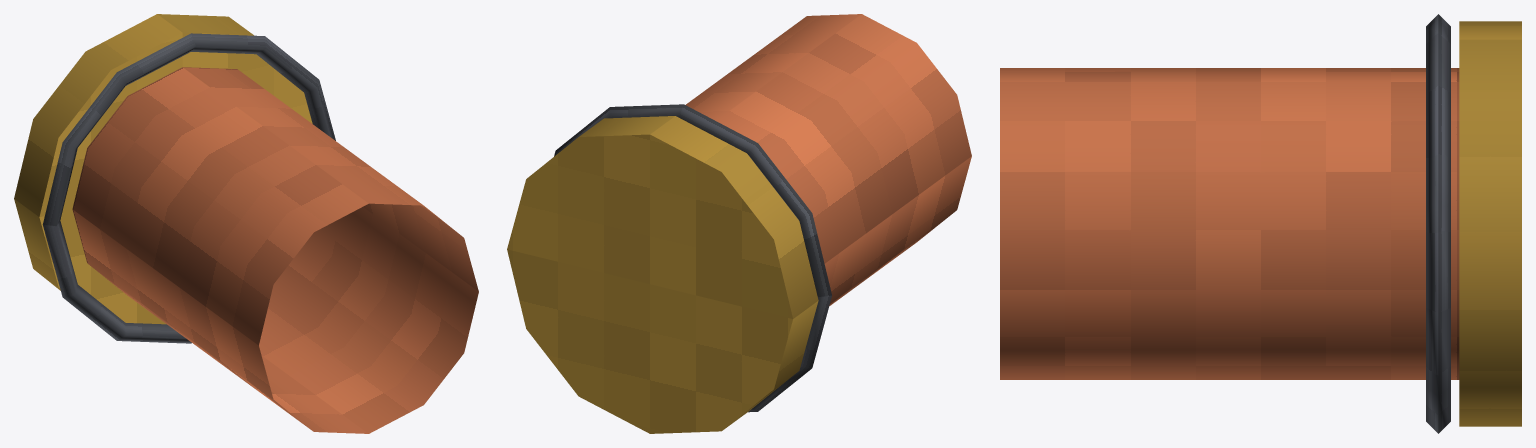
File: fluid_pipe_arm.obj
The picture shows the model from 3 angles, left to right: view 1: azimuth 30°, elevation 25°; view 2: azimuth 150°, elevation 25°; view 3: azimuth 270°, elevation 25°; orthographic projection. The views are drawn at different scales.
Size of the model in its own units: 0.404 by 0.404 by 0.5.
